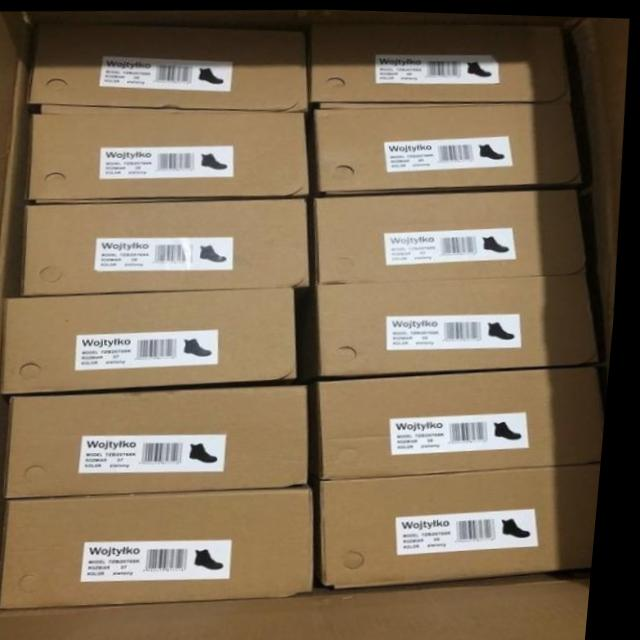box: (11, 486, 322, 609), (328, 459, 609, 589), (12, 382, 317, 500), (323, 360, 613, 478), (6, 285, 302, 393), (318, 269, 605, 374), (23, 196, 313, 296), (316, 186, 591, 283), (29, 110, 314, 203), (313, 98, 582, 194), (29, 30, 310, 113), (310, 22, 574, 105)
